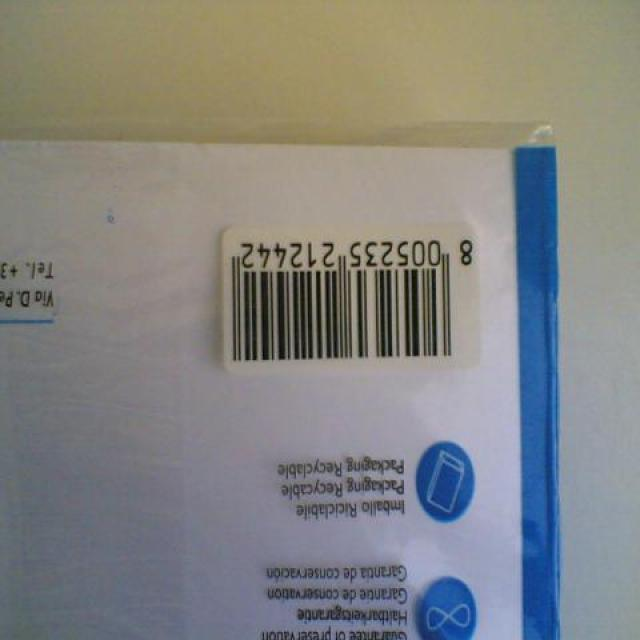Barcode: (221, 220, 486, 376)
